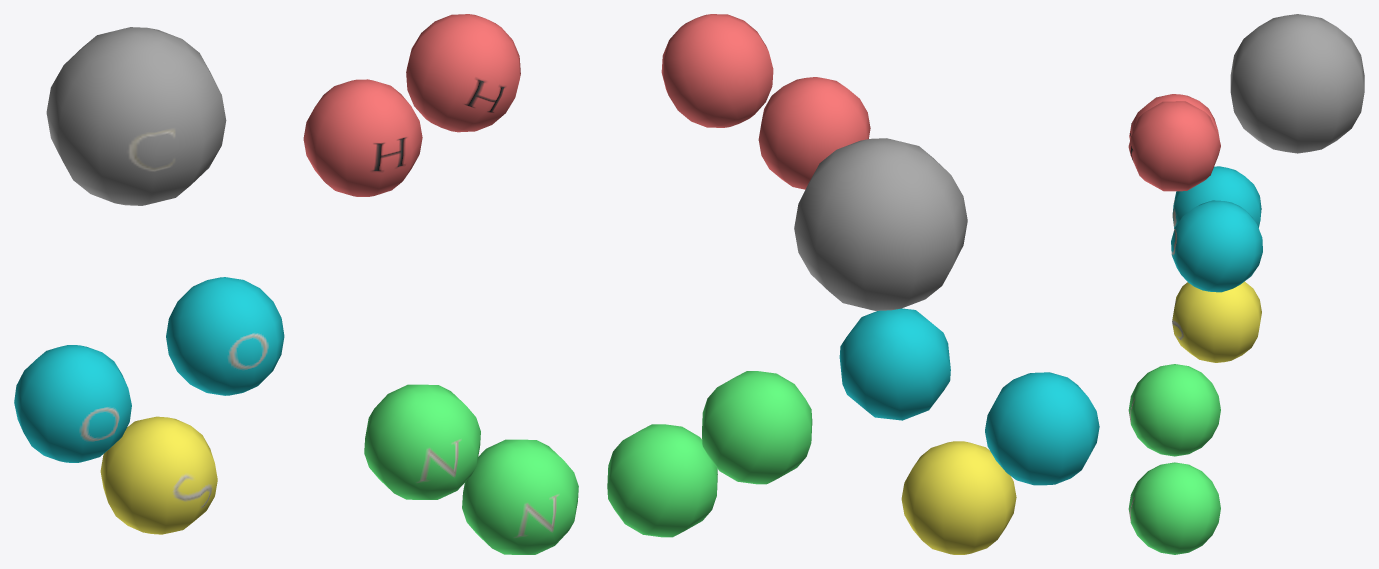
Rendered from SMALL BALLS.fbx.
3 renders of one model, left to right at view 1: azimuth 30°, elevation 25°; view 2: azimuth 150°, elevation 25°; view 3: azimuth 270°, elevation 25°, orthographic. The views are drawn at different scales.
Parts seen in each view (by area): view 1: pSphere2, pSphere6, pSphere1, pSphere3, pSphere5, pSphere7, pSphere4, pSphere8; view 2: pSphere2, pSphere3, pSphere5, pSphere7, pSphere4, pSphere8, pSphere6, pSphere1; view 3: pSphere2, pSphere8, pSphere7, pSphere6, pSphere5, pSphere4, pSphere3, pSphere1.
Boxes of the visible parts, bbox=[...] form: pSphere2: bbox=[46, 27, 226, 205]; pSphere6: bbox=[166, 277, 284, 395]; pSphere1: bbox=[303, 79, 422, 196]; pSphere3: bbox=[14, 345, 131, 462]; pSphere5: bbox=[406, 14, 520, 132]; pSphere7: bbox=[364, 384, 480, 499]; pSphere4: bbox=[100, 416, 217, 534]; pSphere8: bbox=[462, 439, 578, 554]; pSphere2: bbox=[794, 138, 967, 310]; pSphere3: bbox=[985, 372, 1099, 485]; pSphere5: bbox=[661, 14, 773, 127]; pSphere7: bbox=[702, 371, 812, 484]; pSphere4: bbox=[901, 441, 1016, 554]; pSphere8: bbox=[607, 424, 717, 537]; pSphere6: bbox=[839, 308, 950, 420]; pSphere1: bbox=[758, 77, 870, 189]; pSphere2: bbox=[1230, 14, 1364, 153]; pSphere8: bbox=[1128, 462, 1220, 554]; pSphere7: bbox=[1128, 364, 1220, 456]; pSphere6: bbox=[1171, 200, 1262, 292]; pSphere5: bbox=[1128, 101, 1220, 191]; pSphere4: bbox=[1172, 281, 1261, 362]; pSphere3: bbox=[1172, 166, 1261, 228]; pSphere1: bbox=[1129, 94, 1219, 139].
Size of the model in its own units: 43.71 by 43.55 by 22.01.
1 material, 1 textured.
